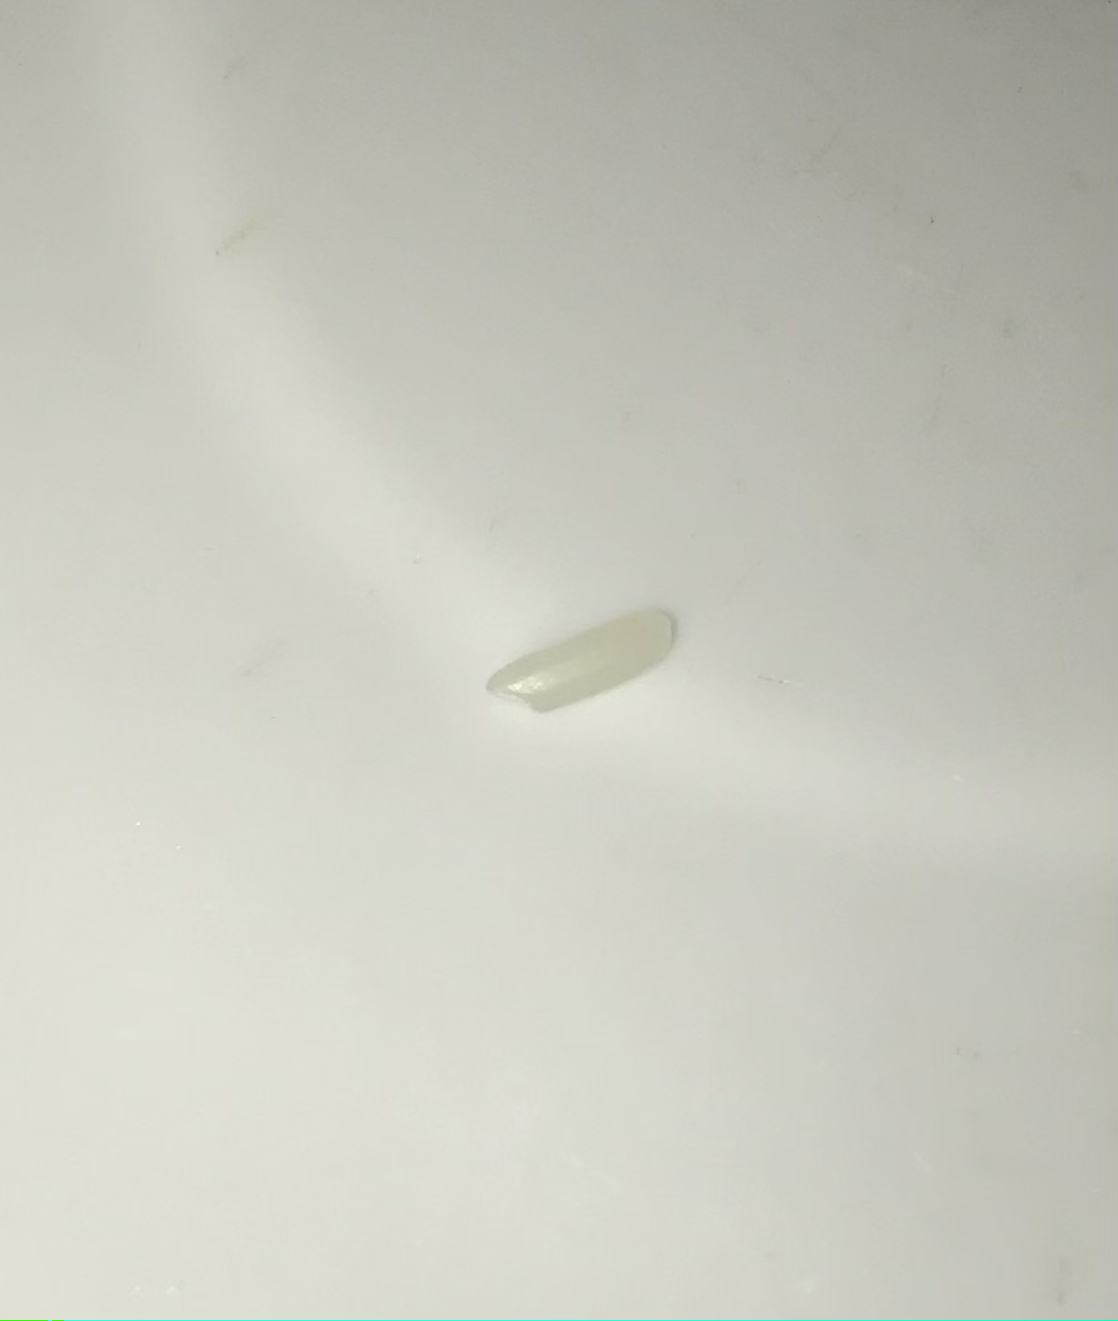Gao Ngoc Troi: (456, 568, 707, 751)
